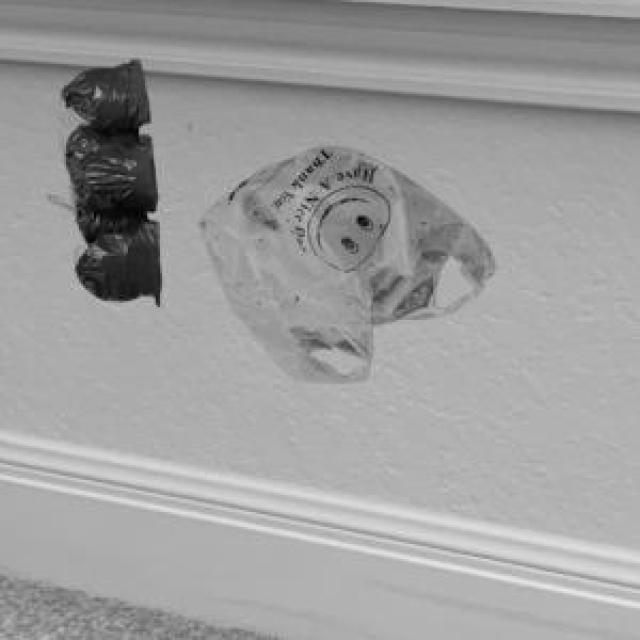miscellaneous trash: (196, 143, 491, 378), (58, 56, 158, 303)
